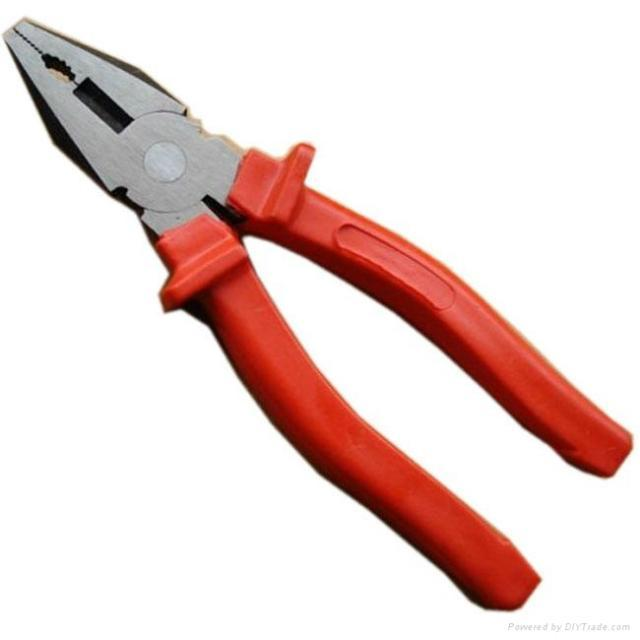pliers: (0, 12, 636, 616)
